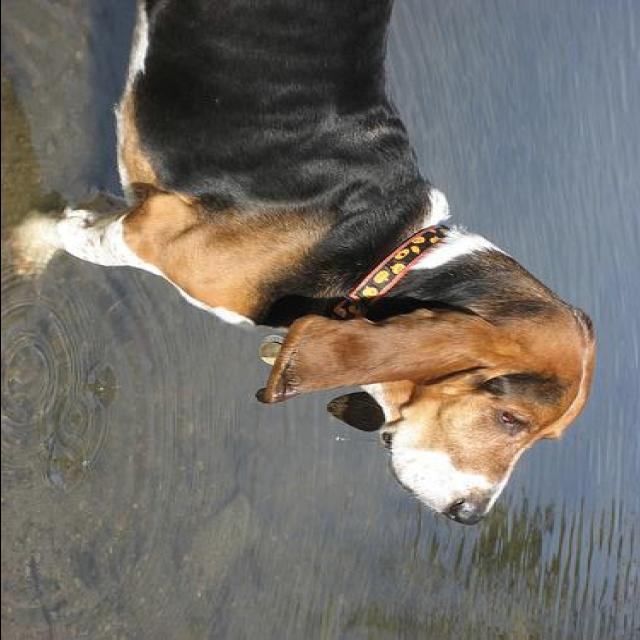basset: (10, 0, 599, 526)
